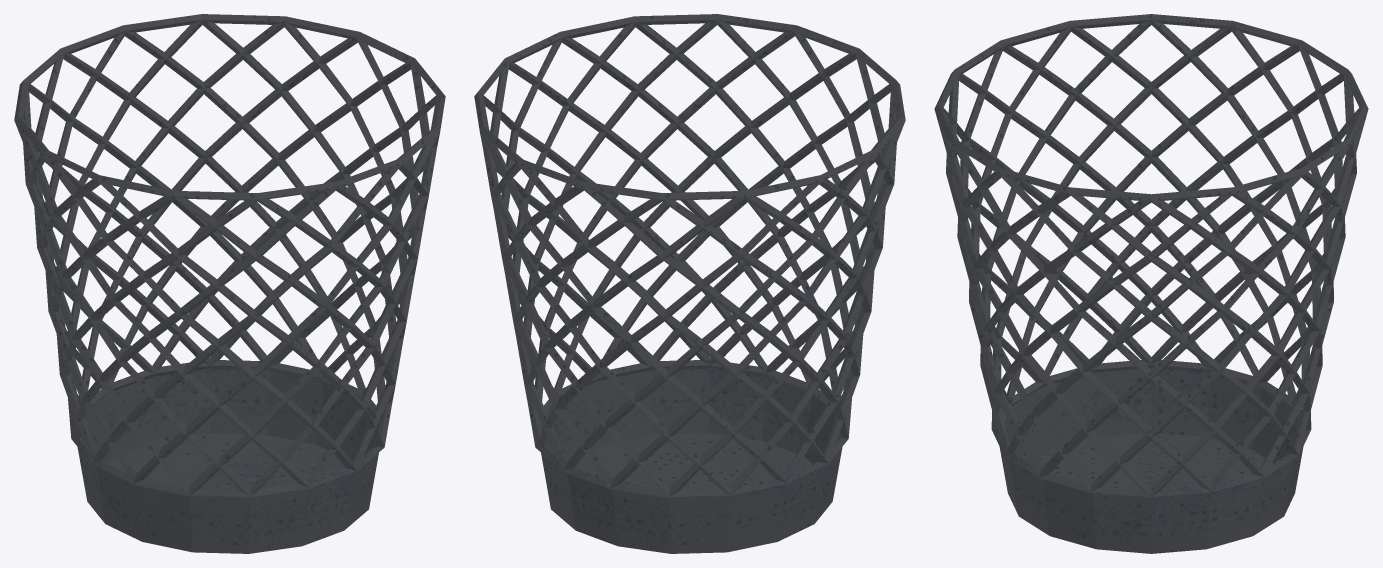
Rendered from wasteBucket.glb.
3 views of the same model, side by side, from view 1: azimuth 30°, elevation 25°; view 2: azimuth 150°, elevation 25°; view 3: azimuth 270°, elevation 25° (orthographic).
Visible parts, largest first — view 1: Cylinder; view 2: Cylinder; view 3: Cylinder.
Boxes of the visible parts, x1,y1,x2,y2 form: Cylinder: (14, 14, 445, 553); Cylinder: (474, 14, 905, 553); Cylinder: (934, 14, 1368, 553).
Bounding box in the file's own units: 0.4438 × 0.439 × 0.4438.
Materials: 1 (1 with a texture image).
